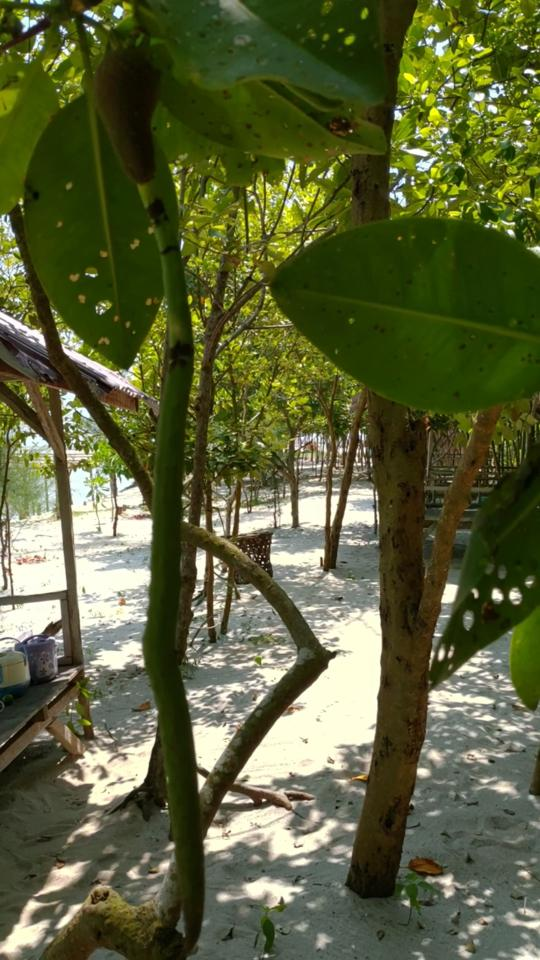mentah: (78, 16, 245, 951)
